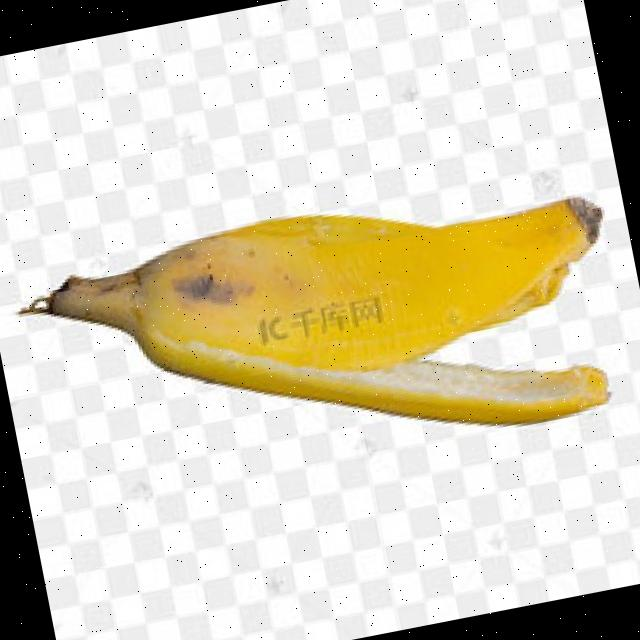banana-peel: (8, 154, 640, 517)
